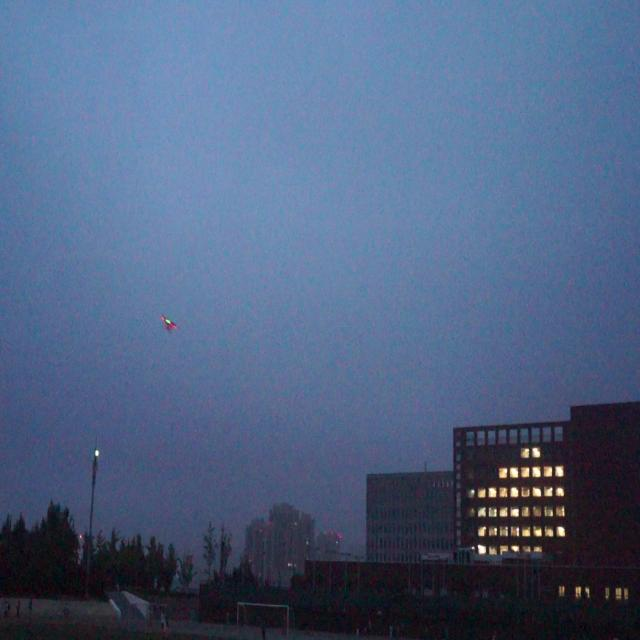drone: (160, 312, 179, 334)
